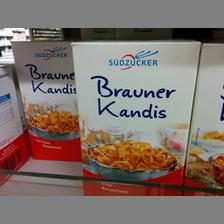Zucker: (70, 38, 198, 194), (8, 38, 80, 162)
